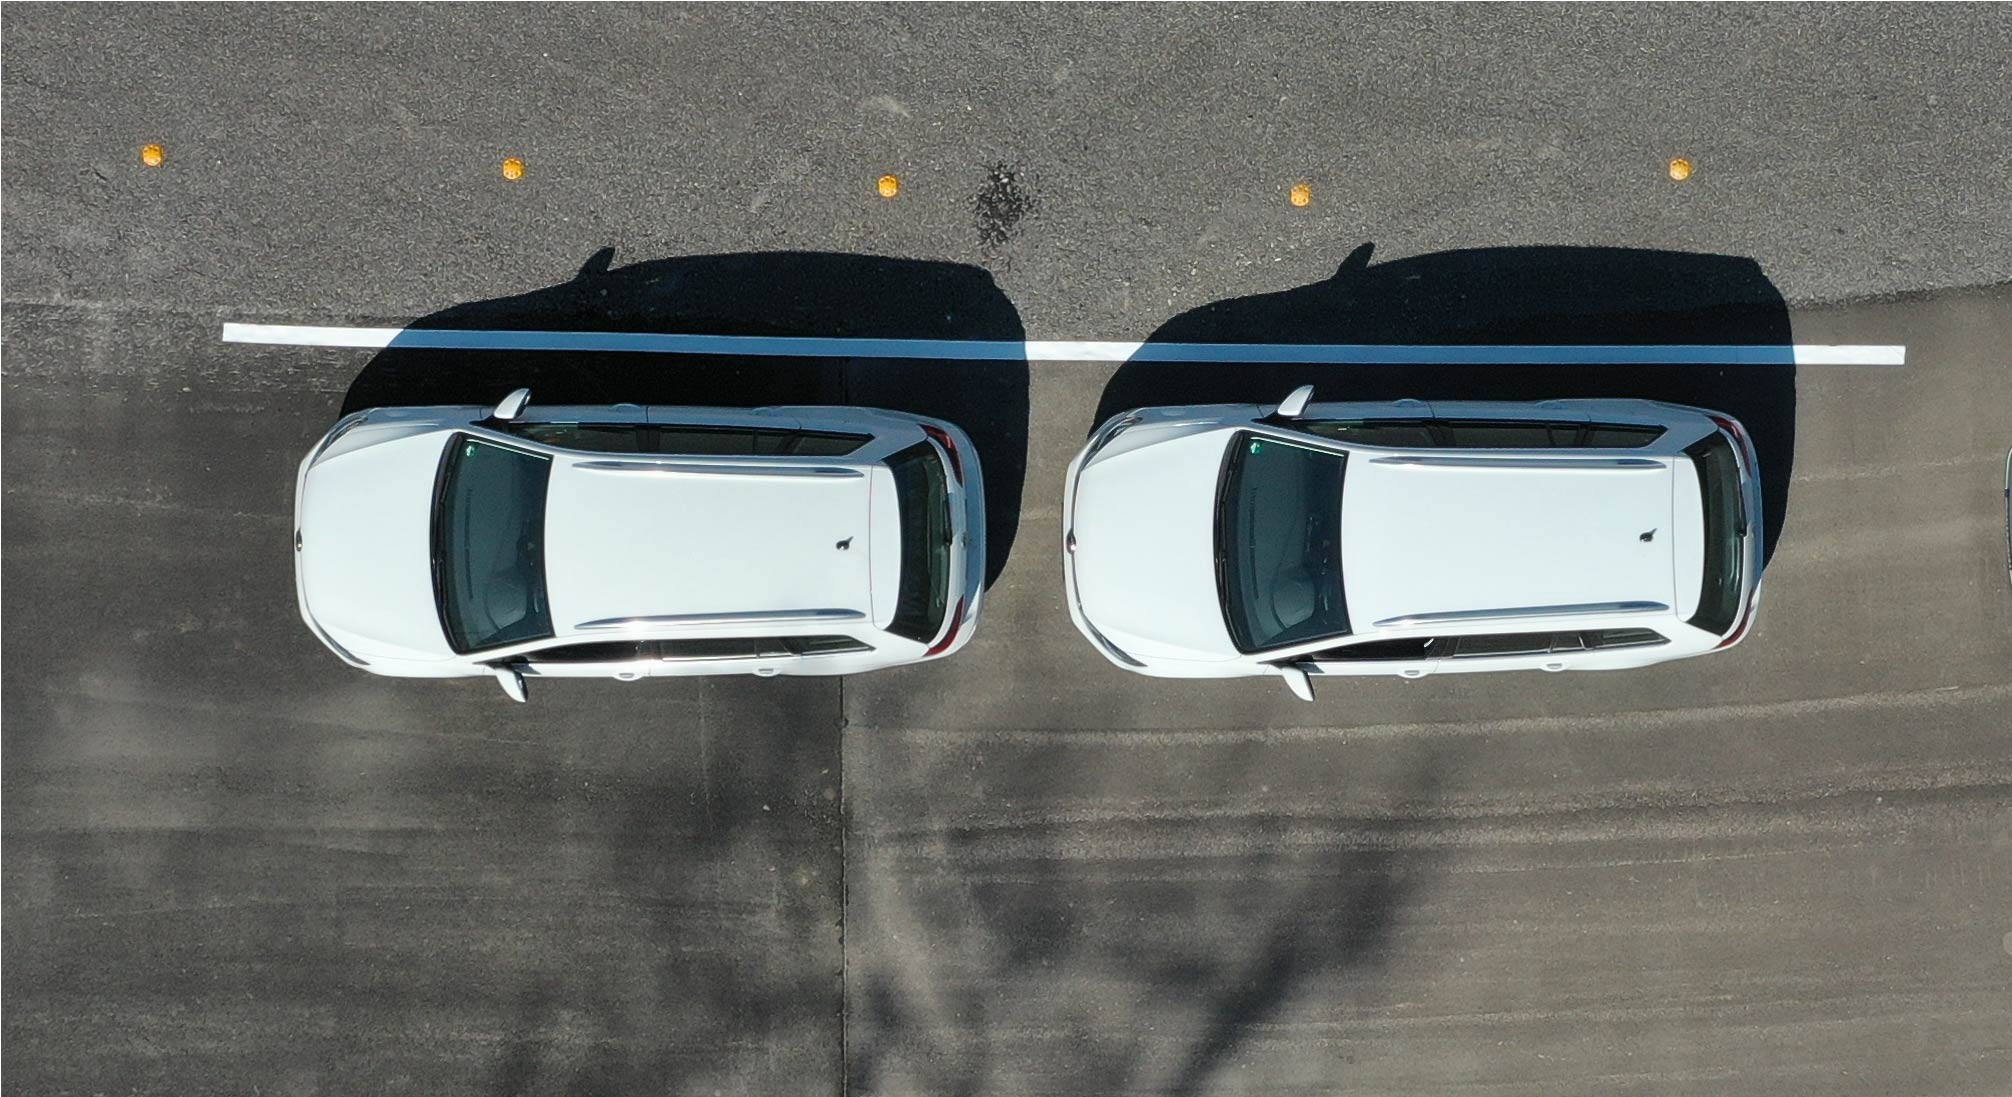Car: (280, 378, 1005, 730), (1061, 366, 1792, 707)
LaneMark: (217, 313, 1912, 372)
